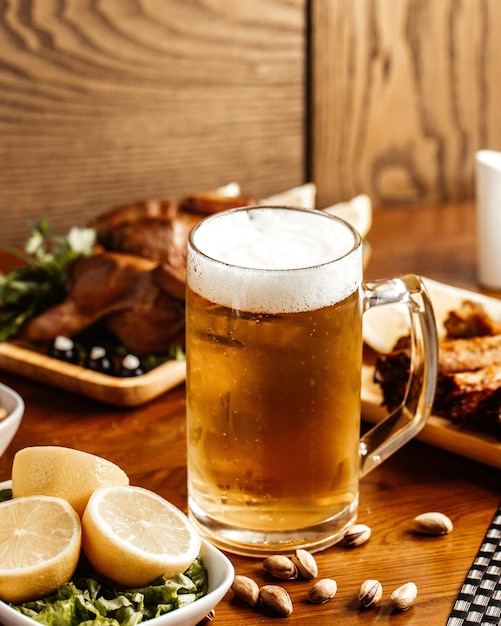alcohol: (173, 203, 441, 553)
